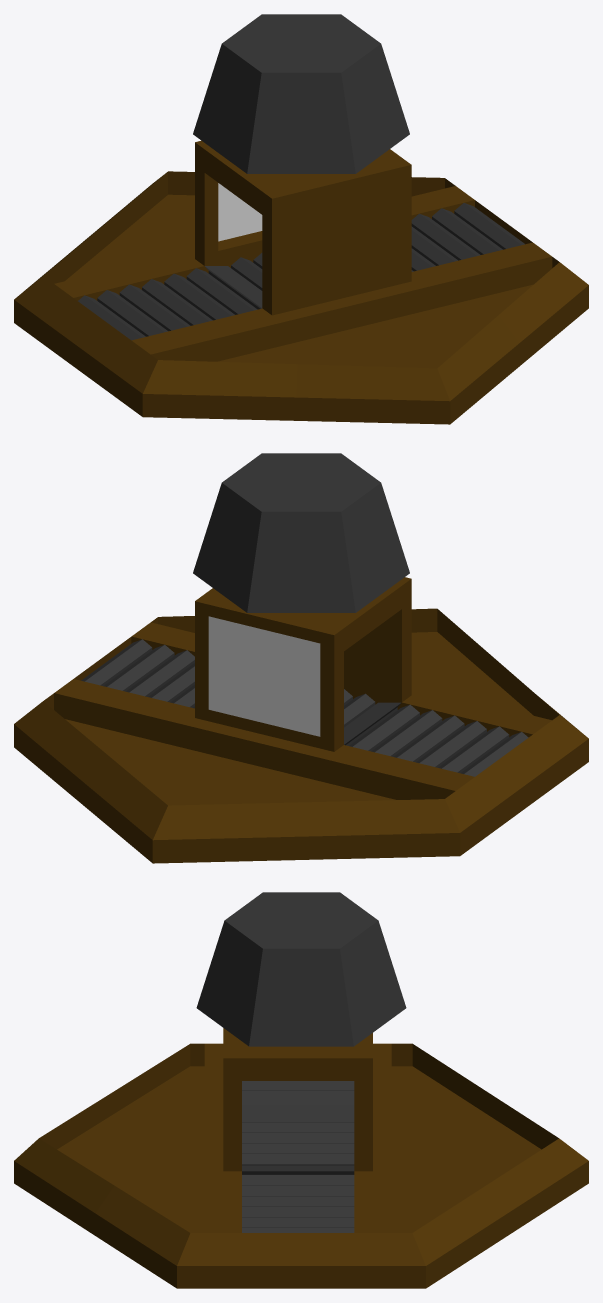
Rendered from engineFactory.fbx.
3 views of the same model, one above another, from view 1: azimuth 30°, elevation 25°; view 2: azimuth 150°, elevation 25°; view 3: azimuth 270°, elevation 25° (orthographic). The views are drawn at different scales.
Parts seen in each view (by area): view 1: Convoyer Belt Engine Factory, Engine Factory Base, engine; view 2: Convoyer Belt Engine Factory, Engine Factory Base, engine; view 3: Engine Factory Base, Convoyer Belt Engine Factory, engine.
Boxes of the visible parts, x1=… form: Convoyer Belt Engine Factory: x1=54, y1=140, x2=552, y2=361; Engine Factory Base: x1=14, y1=171, x2=588, y2=424; engine: x1=193, y1=14, x2=409, y2=173; Convoyer Belt Engine Factory: x1=54, y1=577, x2=551, y2=799; Engine Factory Base: x1=14, y1=608, x2=588, y2=863; engine: x1=193, y1=453, x2=409, y2=612; Engine Factory Base: x1=14, y1=1043, x2=588, y2=1288; Convoyer Belt Engine Factory: x1=204, y1=1028, x2=391, y2=1232; engine: x1=196, y1=892, x2=406, y2=1046.
Bounding box in the file's own units: 200 × 117 × 231.
